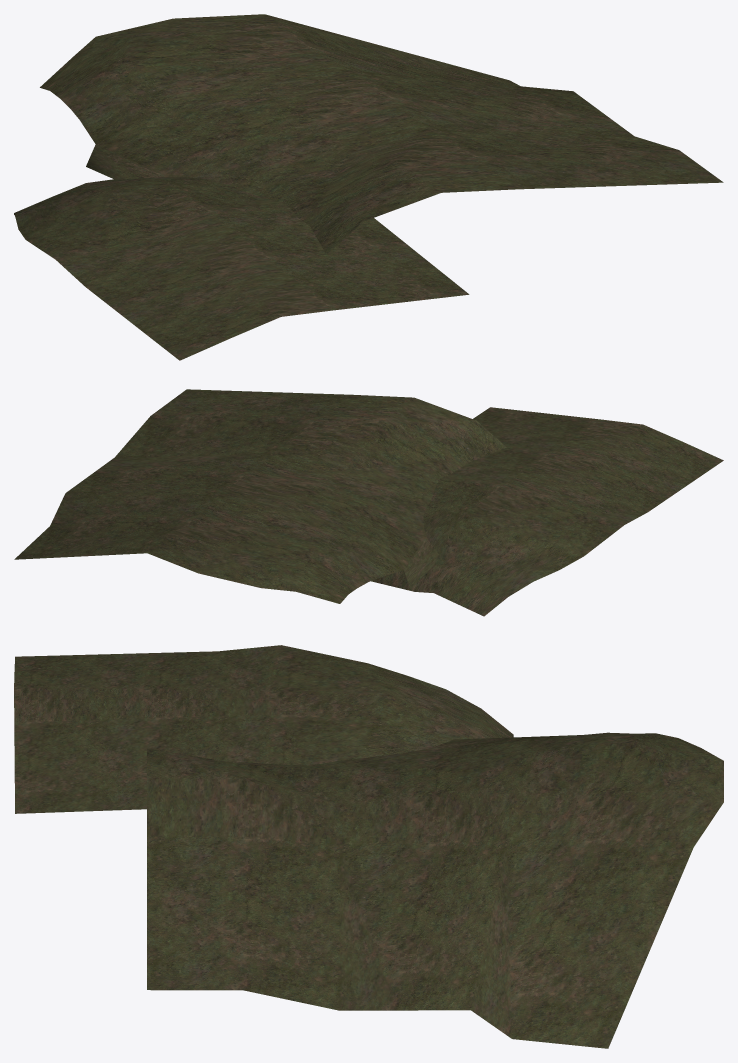
Rendered from menu_billboard_terrain.fbx.
The picture shows the model from 3 angles, top to bottom: view 1: azimuth 30°, elevation 25°; view 2: azimuth 150°, elevation 25°; view 3: azimuth 270°, elevation 25°; orthographic projection. The views are drawn at different scales.
Parts seen in each view (by area): view 1: Material_#238683241/grass_shadow; view 2: Material_#238683241/grass_shadow; view 3: Material_#238683241/grass_shadow.
Part boxes in pixels (x1=…): Material_#238683241/grass_shadow: x1=14, y1=14, x2=723, y2=360; Material_#238683241/grass_shadow: x1=14, y1=389, x2=723, y2=616; Material_#238683241/grass_shadow: x1=14, y1=645, x2=723, y2=1048.
Bounding box in the file's own units: 19.57 × 3.5 × 18.46.
